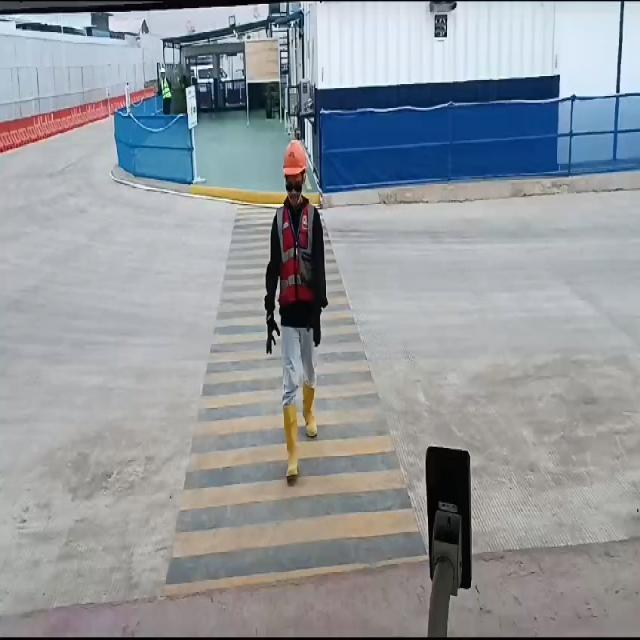gloves: (264, 311, 282, 355), (312, 315, 324, 348)
goggles: (284, 181, 304, 194)
helmet: (283, 138, 309, 178), (159, 66, 168, 76)
safety_vest: (276, 200, 316, 327), (163, 78, 171, 99)
